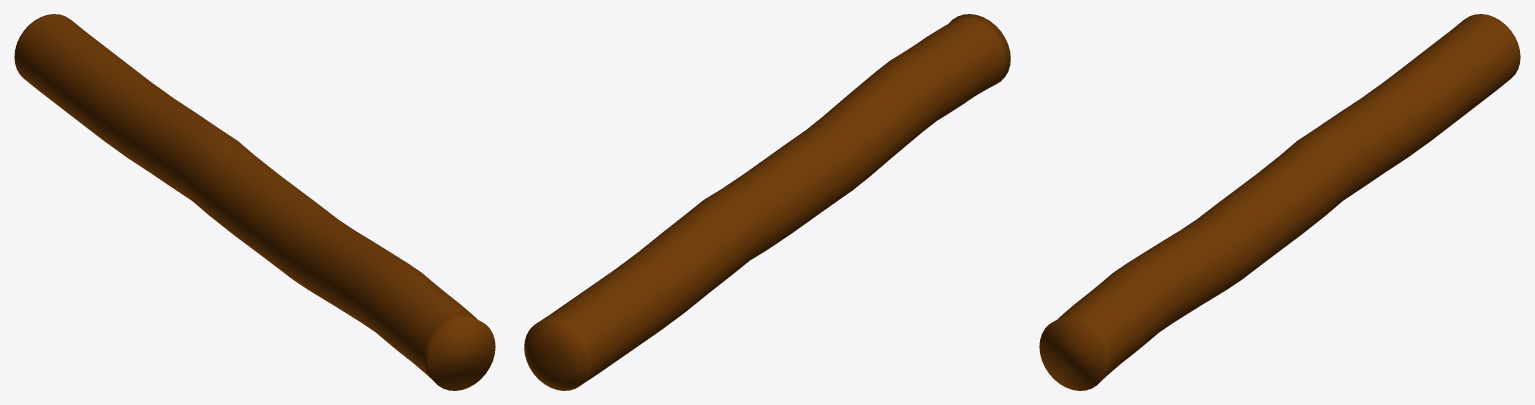
The model's file is stick.fbx.
3 renders of one model, left to right at view 1: azimuth 30°, elevation 25°; view 2: azimuth 150°, elevation 25°; view 3: azimuth 330°, elevation 25°, orthographic.
Visible parts, largest first — view 1: Cylinder; view 2: Cylinder; view 3: Cylinder.
Part boxes in pixels (bbox=[...]): Cylinder: bbox=[14, 14, 495, 390]; Cylinder: bbox=[524, 14, 1010, 390]; Cylinder: bbox=[1039, 14, 1520, 390].
Bounding box in the file's own units: 0.6582 × 0.7137 × 7.17.
